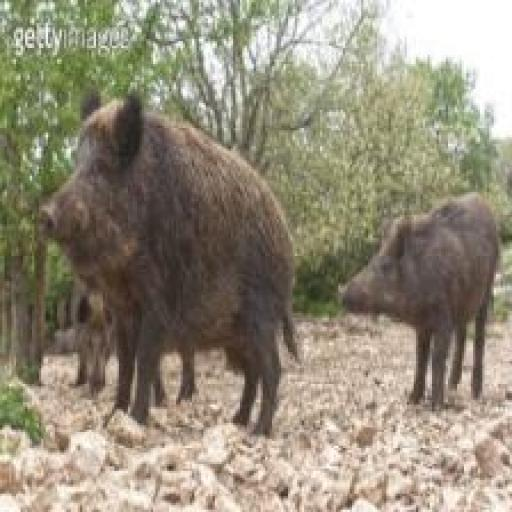Pig: (32, 82, 311, 448), (331, 192, 503, 416)
